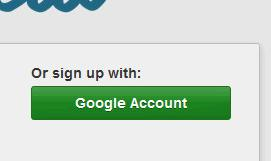button: (30, 85, 233, 121)
